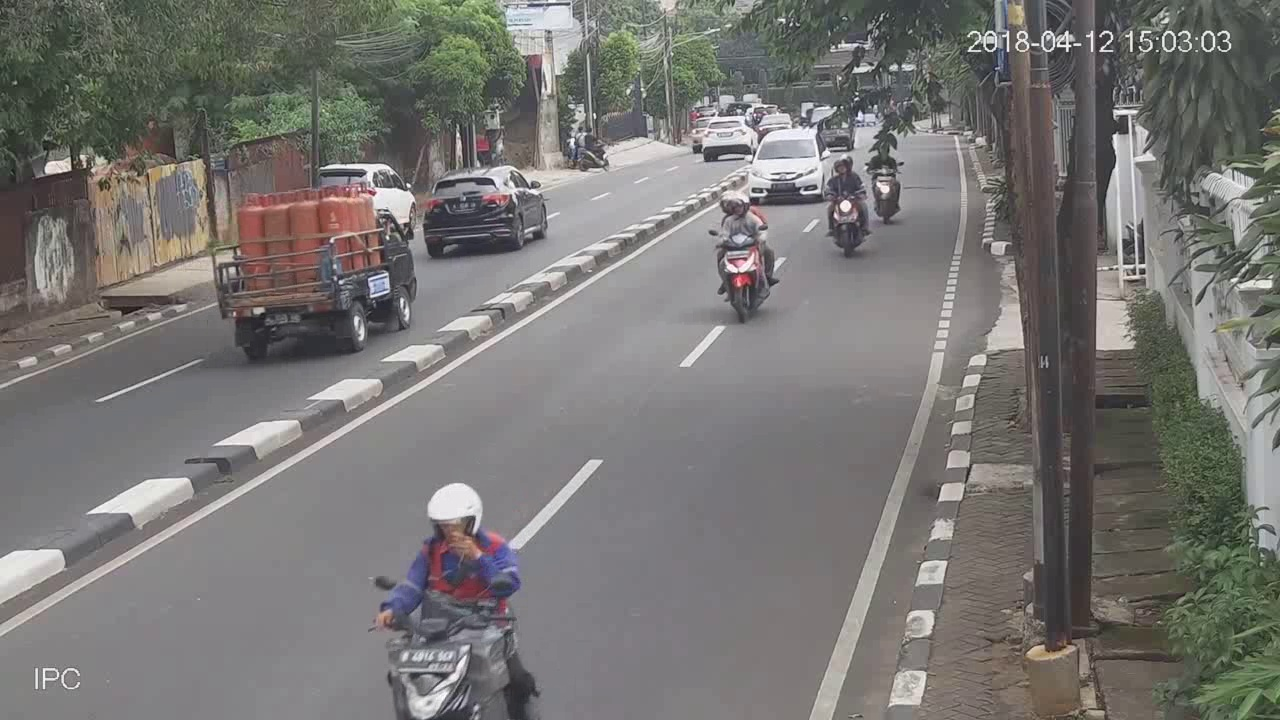car: (418, 161, 551, 253), (746, 135, 822, 204), (704, 115, 753, 161)
motorcycle: (714, 188, 778, 324), (824, 151, 872, 258), (865, 142, 910, 230)
truck: (201, 189, 420, 354)
